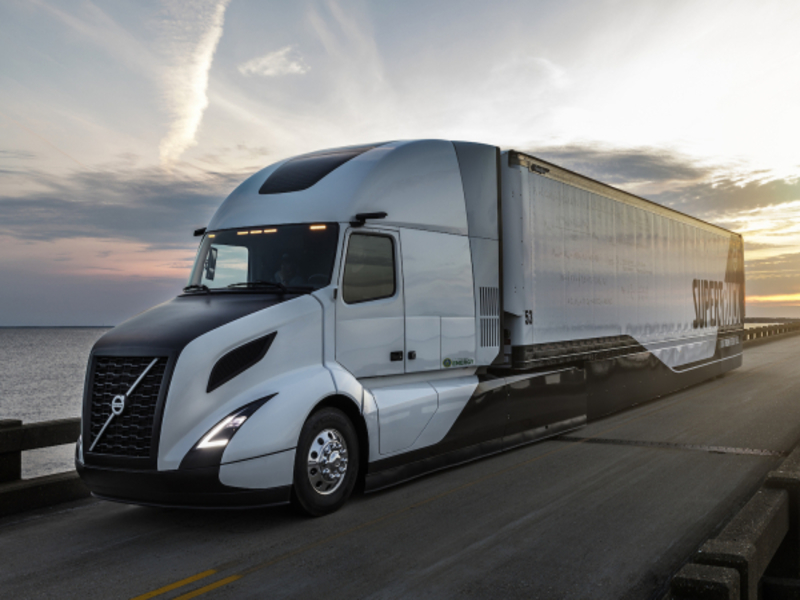truck: (74, 138, 744, 516)
